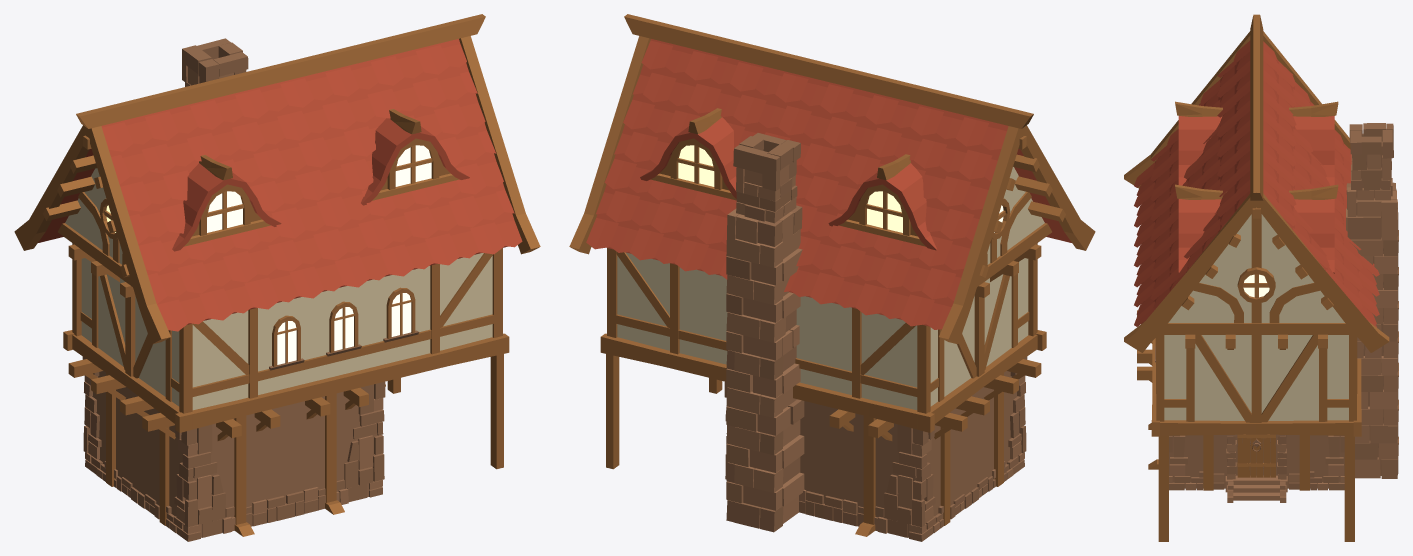
File: house_cottage_a.glb
3 views of the same model, side by side, from view 1: azimuth 30°, elevation 25°; view 2: azimuth 150°, elevation 25°; view 3: azimuth 270°, elevation 25° (orthographic). The views are drawn at different scales.
Visible parts, largest first — view 1: house_cottage_a_LOD0_surface, house_cottage_a_LOD1_surface; view 2: house_cottage_a_LOD0_surface, house_cottage_a_LOD1_surface; view 3: house_cottage_a_LOD0_surface, house_cottage_a_LOD1_surface.
Part boxes in pixels (x1,y1,x2,y2): house_cottage_a_LOD0_surface: (14, 14, 540, 541); house_cottage_a_LOD1_surface: (65, 115, 415, 537); house_cottage_a_LOD0_surface: (569, 14, 1095, 541); house_cottage_a_LOD1_surface: (694, 115, 1044, 537); house_cottage_a_LOD0_surface: (1124, 14, 1398, 541); house_cottage_a_LOD1_surface: (1127, 104, 1385, 352).
Size of the model in its own units: 8.21 by 7.8 by 5.32.
